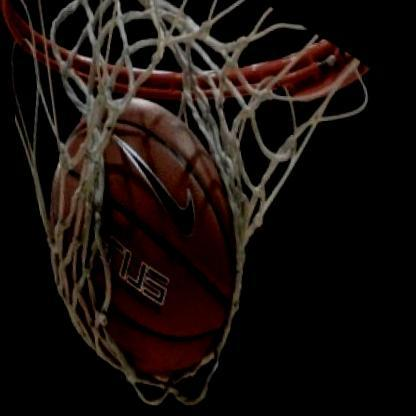basketball: (34, 90, 242, 376)
